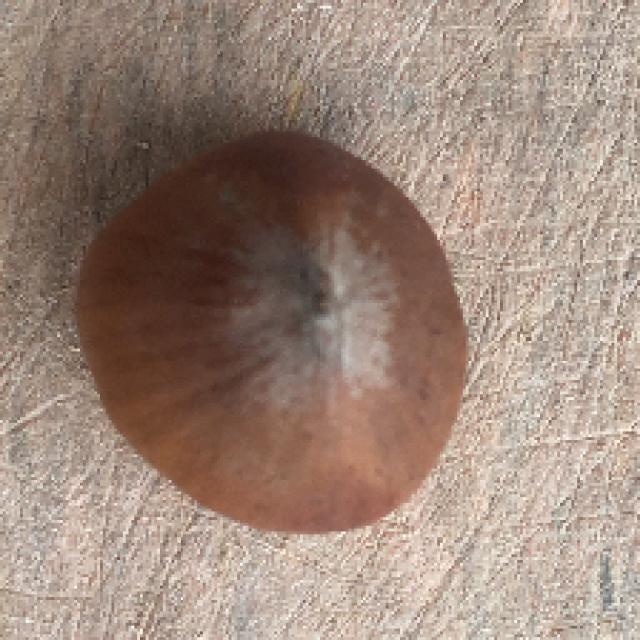qualityHazelnut: (72, 123, 476, 538)
